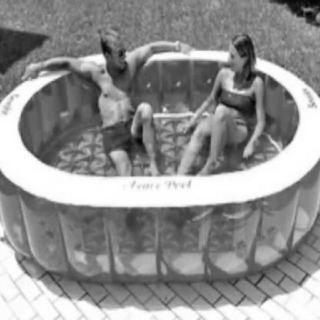other: (17, 146, 305, 204)
